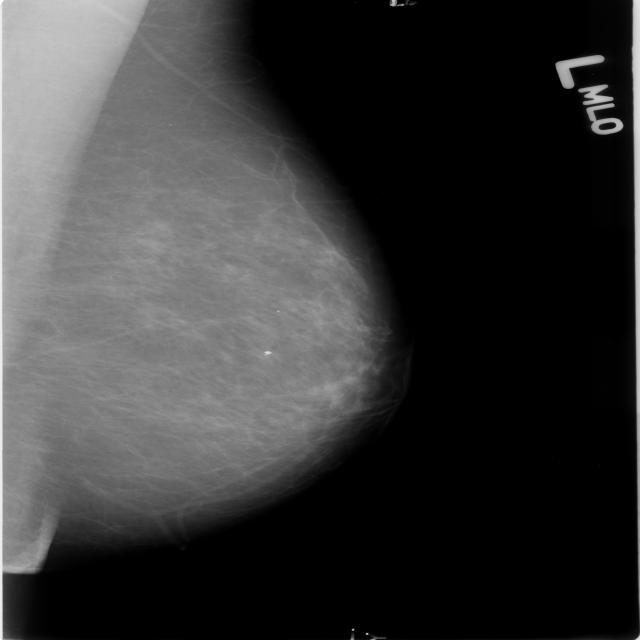normal: (0, 0, 401, 557)
